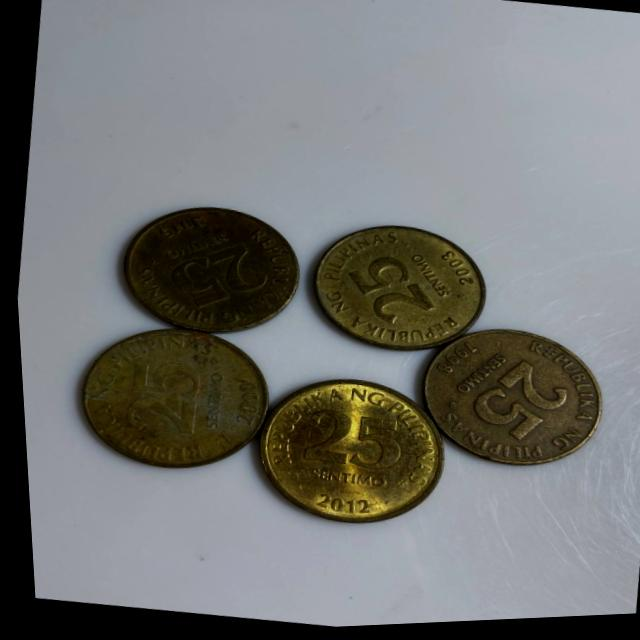25Cent_Old_Front: (461, 351, 559, 453), (294, 405, 404, 488), (340, 250, 435, 337), (162, 236, 264, 315), (110, 359, 204, 443)
